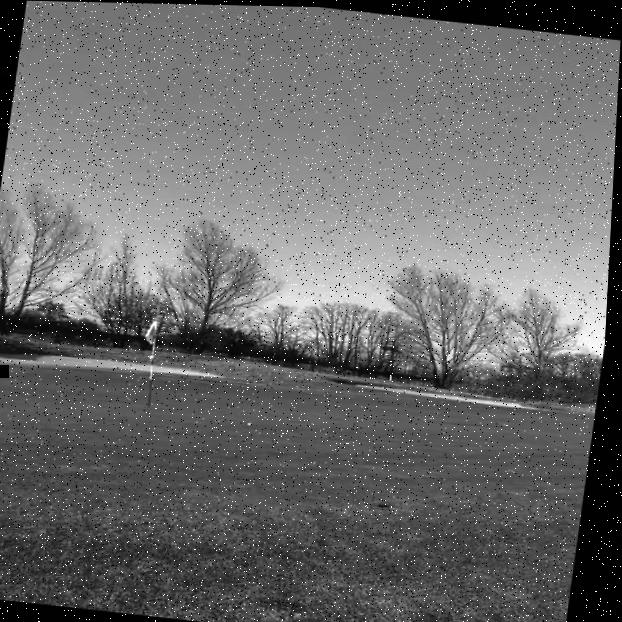GolfBall: (252, 422, 256, 424)
